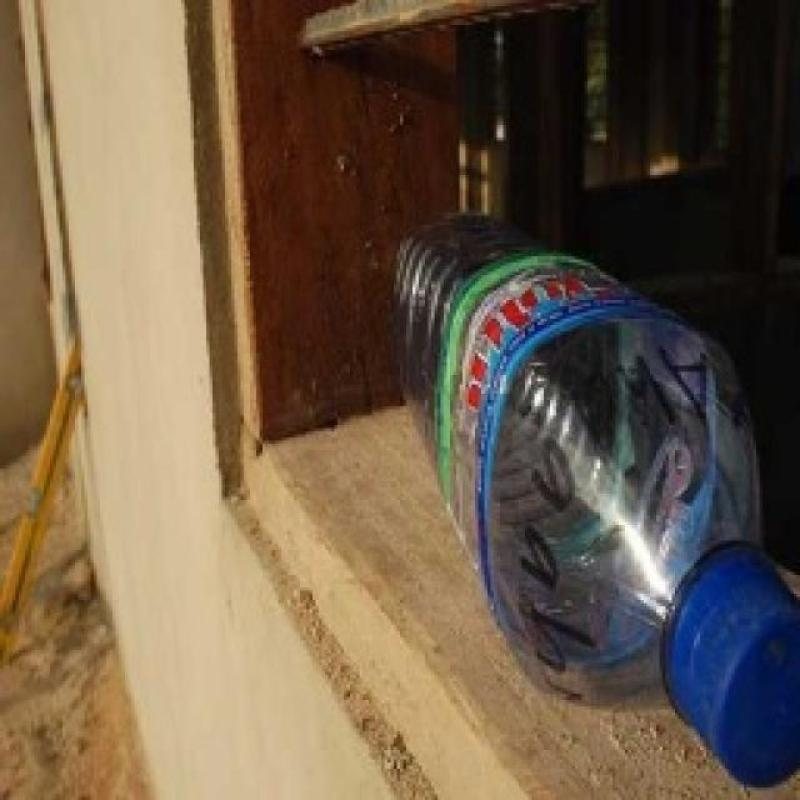botella: (394, 210, 800, 790)
